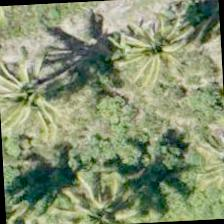Kelapa_Sawit: (101, 0, 196, 89), (0, 41, 81, 136), (51, 146, 147, 223)
